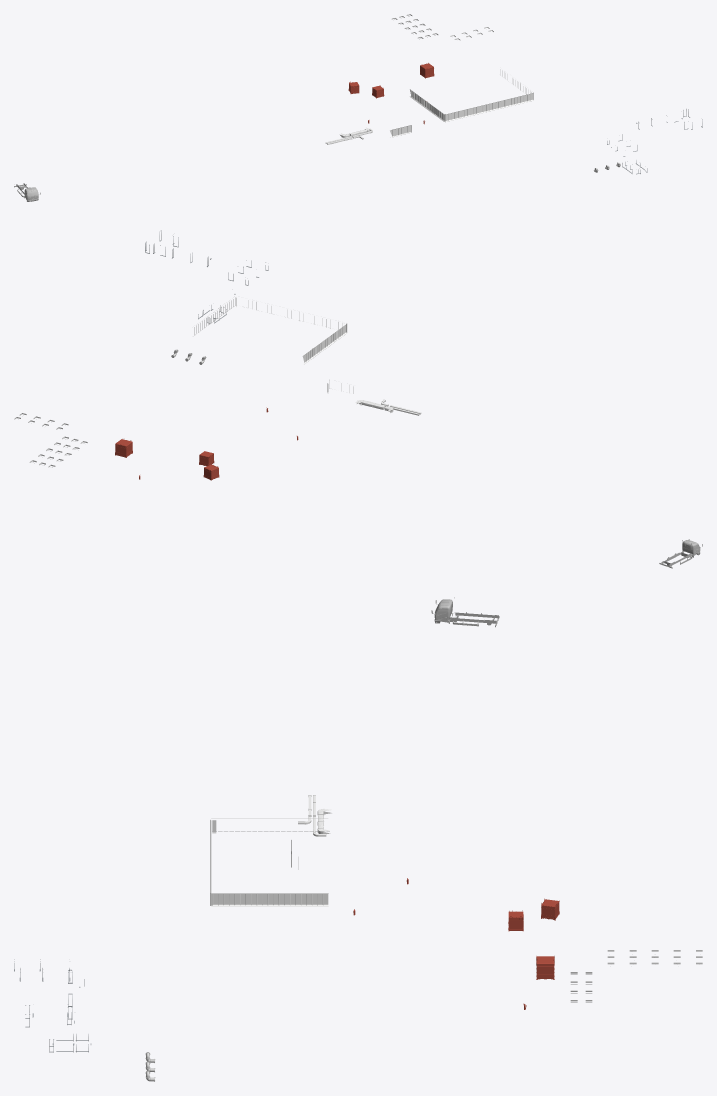
3 views of the same model, one above another, from view 1: azimuth 30°, elevation 25°; view 2: azimuth 150°, elevation 25°; view 3: azimuth 270°, elevation 25° (orthographic). The views are drawn at different scales.
Parts seen in each view (by area): view 1: n0_lr0_c0_s_cb_b_nomerge32_window_001.meshset_0_c0_1, n0_lr0_agg_merge_metal_crate_002b_1_fragment1_c0_0; view 2: n0_lr0_c0_s_cb_b_nomerge32_window_001.meshset_0_c0_1, n0_lr0_agg_merge_metal_crate_002b_1_fragment1_c0_0; view 3: n0_lr0_c0_s_cb_b_nomerge32_window_001.meshset_0_c0_1, n0_lr0_agg_merge_metal_crate_002b_1_fragment1_c0_0, n0_lr0_agg_merge_nuke_cars_color_0_fragment2.
Boxes of the visible parts, x1,y1,x2,y2 form: n0_lr0_c0_s_cb_b_nomerge32_window_001.meshset_0_c0_1: (390, 67, 533, 137); n0_lr0_agg_merge_metal_crate_002b_1_fragment1_c0_0: (348, 63, 434, 98); n0_lr0_c0_s_cb_b_nomerge32_window_001.meshset_0_c0_1: (194, 296, 353, 393); n0_lr0_agg_merge_metal_crate_002b_1_fragment1_c0_0: (115, 439, 219, 480); n0_lr0_c0_s_cb_b_nomerge32_window_001.meshset_0_c0_1: (210, 818, 329, 906); n0_lr0_agg_merge_metal_crate_002b_1_fragment1_c0_0: (508, 898, 559, 979); n0_lr0_agg_merge_nuke_cars_color_0_fragment2: (431, 597, 499, 627).
Size of the model in its own units: 4748 by 638 by 2997.
